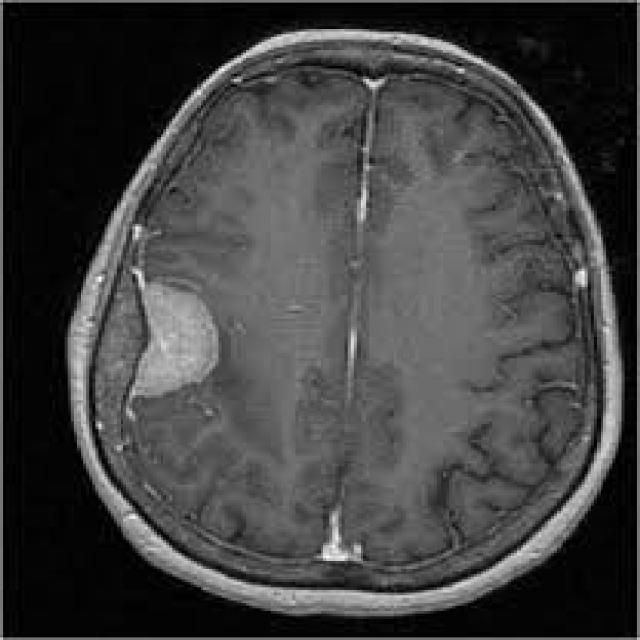Meningioma: (131, 282, 219, 400)
